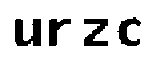c: (117, 15, 146, 49)
r: (46, 16, 72, 50)
u: (13, 17, 42, 50)
z: (78, 16, 112, 51)
